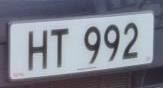2: (121, 17, 142, 64)
9: (81, 22, 104, 68), (102, 19, 123, 67)
H: (24, 26, 51, 76)
T: (49, 25, 74, 74)
